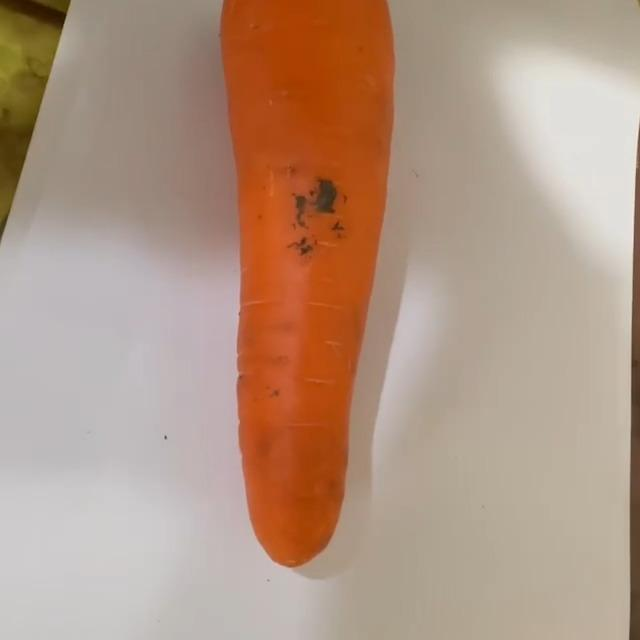carrot: (218, 1, 398, 568)
